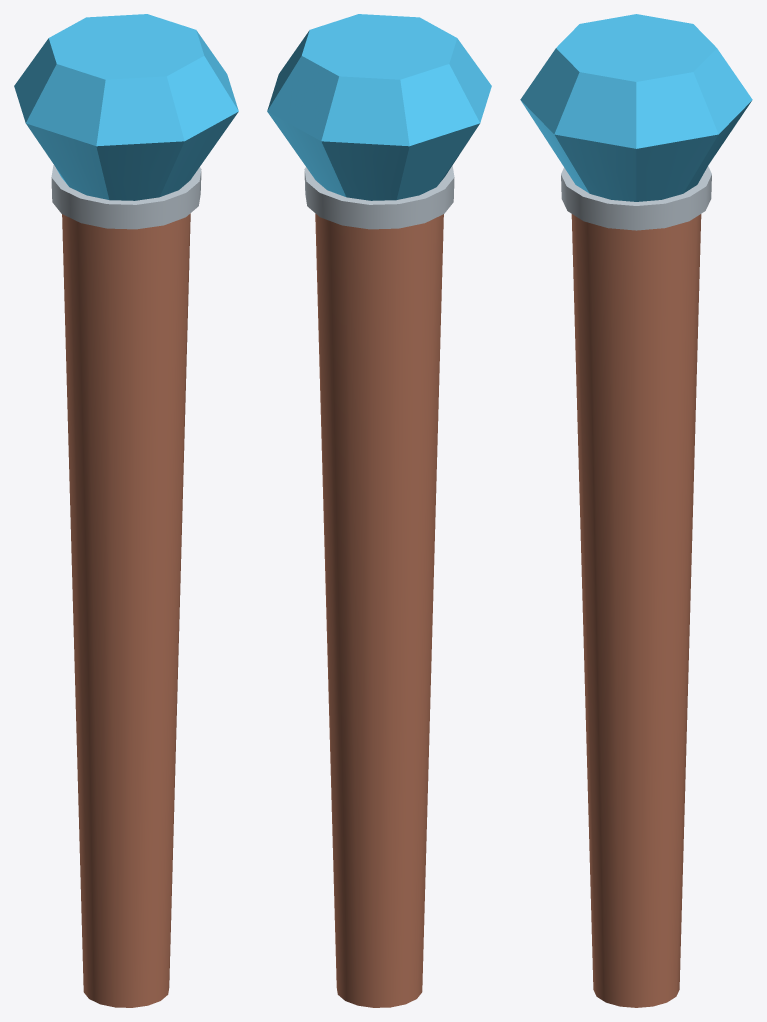
The model's file is Stick A Multi.fbx.
The picture shows the model from 3 angles, left to right: view 1: azimuth 30°, elevation 25°; view 2: azimuth 150°, elevation 25°; view 3: azimuth 270°, elevation 25°; orthographic projection.
Visible parts, largest first — view 1: Stick A; view 2: Stick A; view 3: Stick A.
Part boxes in pixels (bbox=[...]): Stick A: bbox=[14, 14, 238, 1007]; Stick A: bbox=[267, 14, 491, 1007]; Stick A: bbox=[520, 14, 752, 1007].
Bounding box in the file's own units: 0.3011 × 1.35 × 0.3011.
